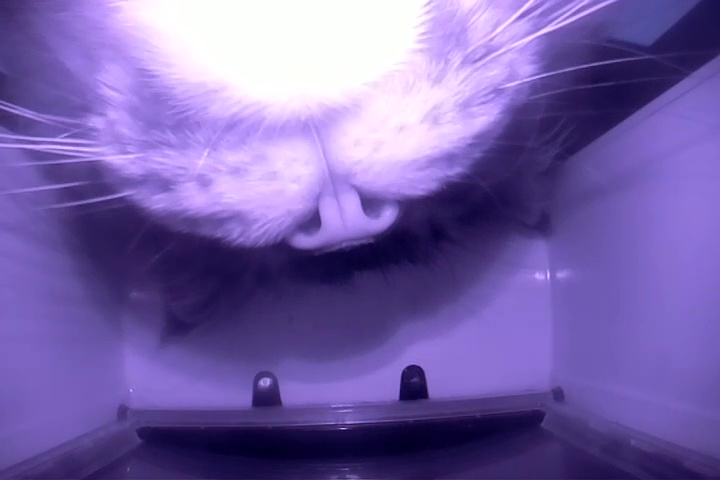Snout: (83, 26, 457, 264)
